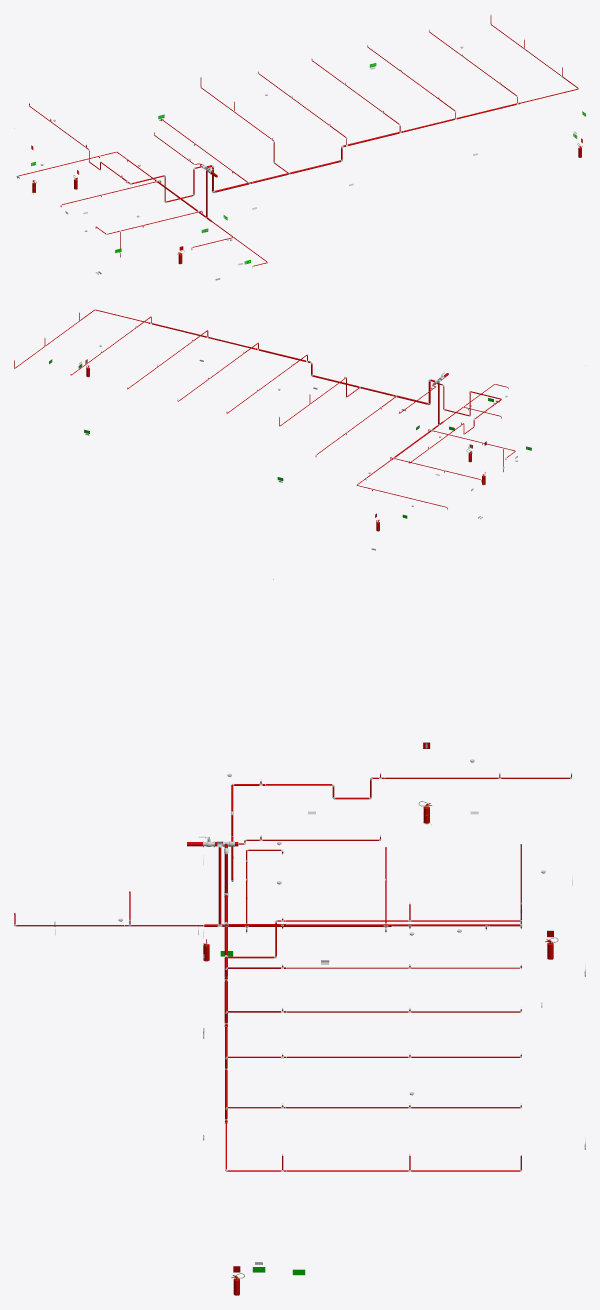
Rendered from khung2.glb.
3 views of the same model, one above another, from view 1: azimuth 30°, elevation 25°; view 2: azimuth 150°, elevation 25°; view 3: azimuth 270°, elevation 25° (orthographic). The views are drawn at different scales.
Parts seen in each view (by area): view 1: P-PIPE; view 2: P-PIPE; view 3: P-PIPE.
Boxes of the visible parts, left/top/right/bottom form: P-PIPE: left=14, top=15, right=579, bottom=267; P-PIPE: left=14, top=309, right=585, bottom=509; P-PIPE: left=14, top=579, right=572, bottom=1171.
Bounding box in the file's own units: 28096 × 8403 × 14375.
